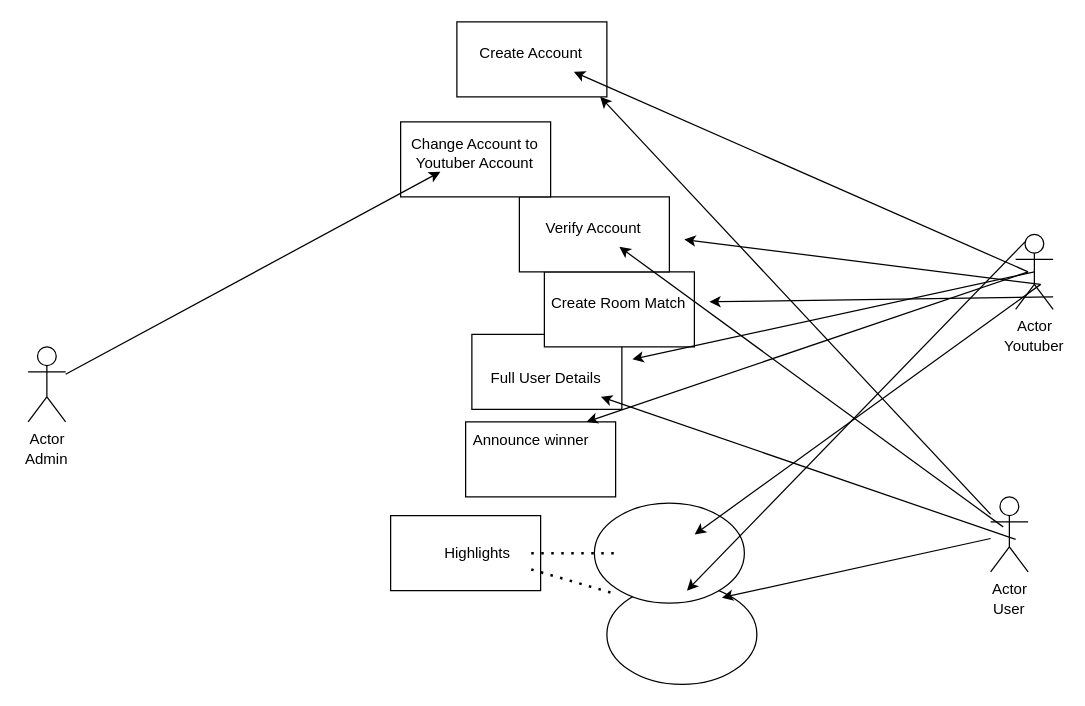
Some shapes in this 1085 by 706 pixel diagram are drawn without their labels. Each missing label, with the centre of its shape:
Set Highlights: (668,552)
View Highlights: (681,633)
